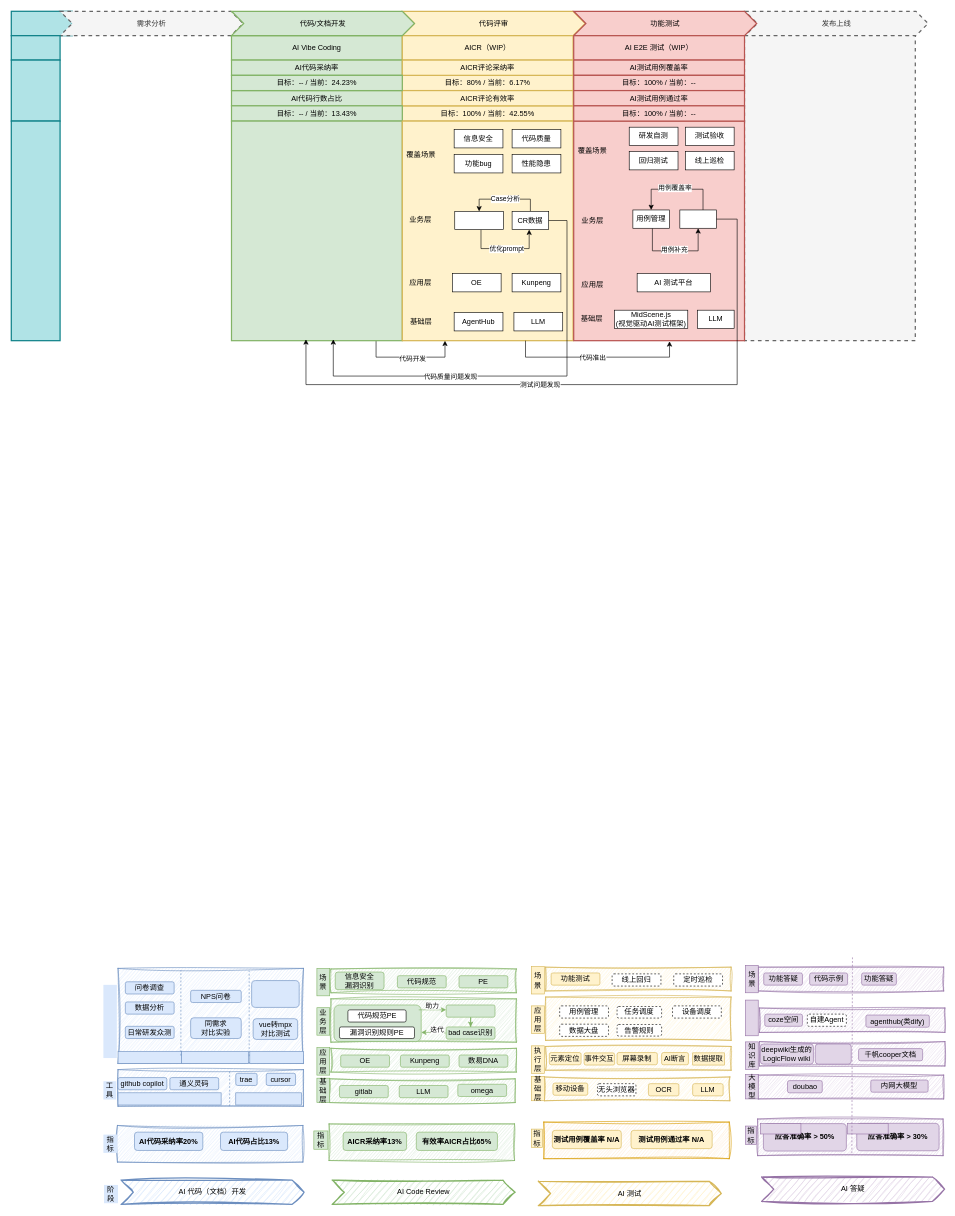
This 955x1216 diagram has some shape labels left out. Here are the shapes that lost their labels. From the top down, the centre of each, then its label:
point 41,23: 内部研发流程
point 35,47: 提效方式
point 35,90: 核心指标 目标/当前
point 830,188: 暂无
point 35,230: 工具介绍
point 317,230: 旧代码删除率 重复场景研发效率 rules/tab/agent/vibe space法则 best practice spec-driven dev
point 479,220: Prompt Engineering
point 697,218: 用例数据
point 275,993: 复杂度场景 提效度量
point 470,1010: 人工 + AI CR
point 110,1021: 开发模式与案例
point 751,1017: 执行引擎
point 149,1057: copilot模式
point 215,1057: vibe coding
point 276,1057: spec-driven dev
point 833,1053: LogicFlow 文档
point 169,1098: IDE插件
point 268,1098: AI IDE
point 780,1128: LogicFlow
point 867,1128: 千帆机器人
